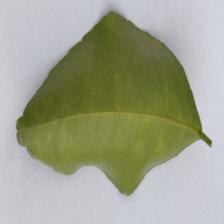healthy: (14, 10, 214, 198)
